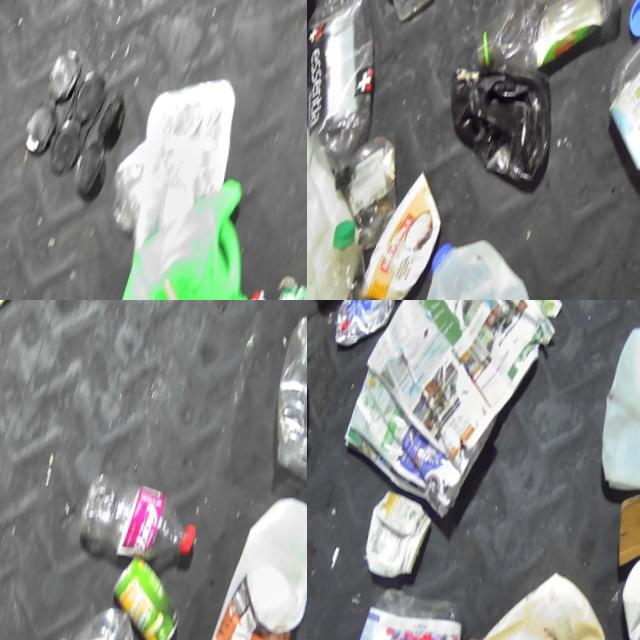can: (104, 543, 199, 640), (327, 300, 408, 359), (266, 241, 307, 300)
milk_jug: (385, 217, 571, 300), (307, 97, 380, 300), (586, 302, 640, 491)
non_white_jug: (83, 136, 307, 300), (432, 534, 631, 640)
plastic_bottle: (79, 451, 211, 572), (477, 0, 640, 91), (307, 199, 420, 300), (587, 0, 640, 204), (30, 580, 148, 640)
